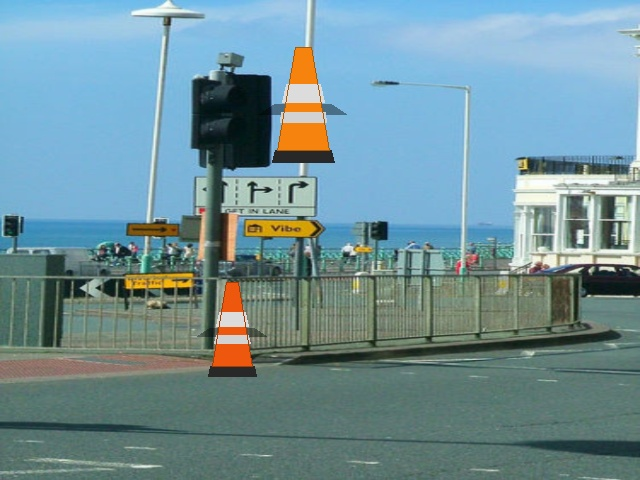traffic-cone: (272, 47, 334, 162), (208, 282, 256, 376)
